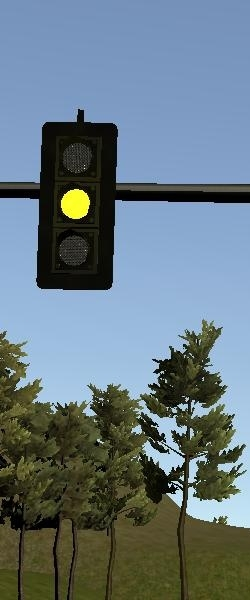Yellow: (39, 121, 115, 292)
